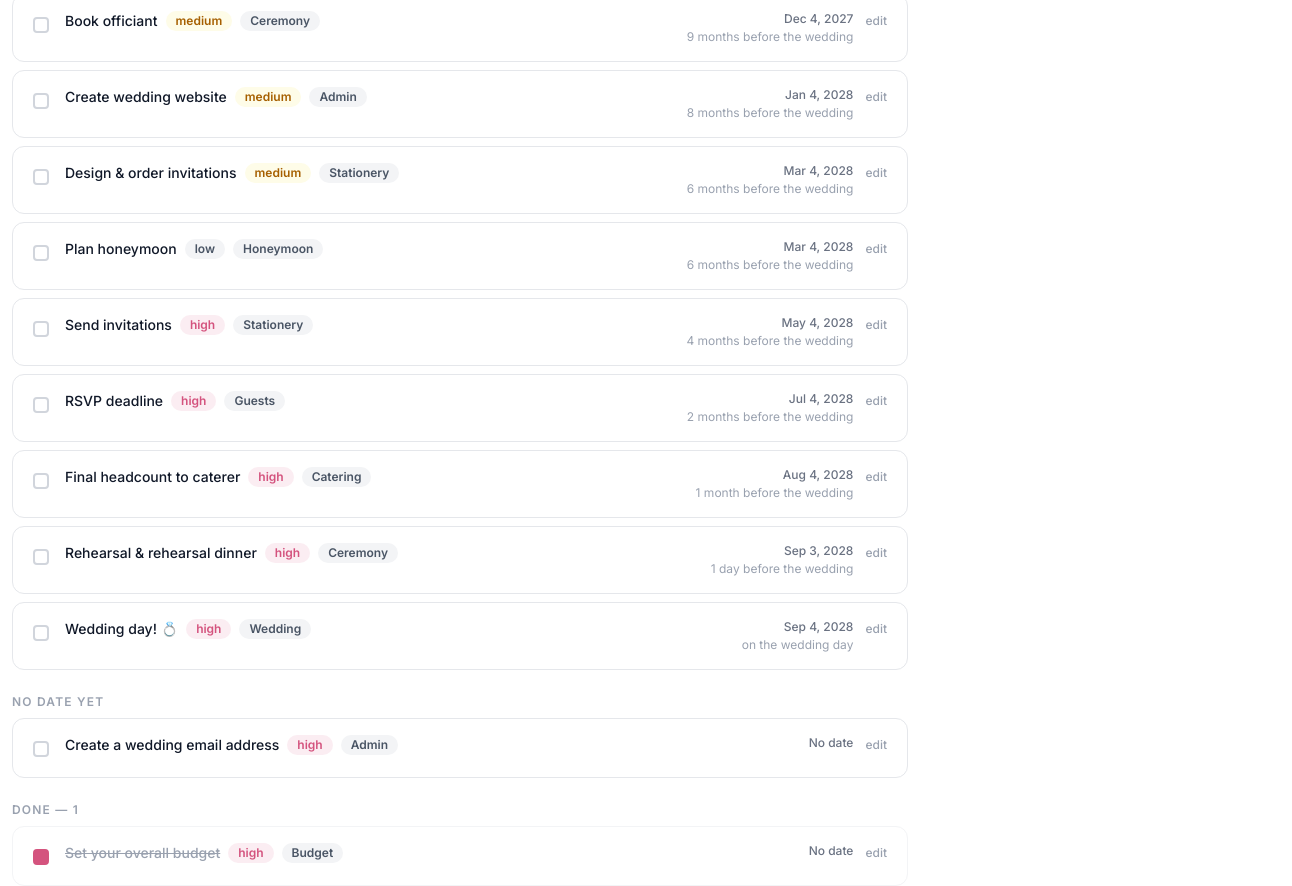
Test: Timeline — removing an item › removes an undated task
(page scrolled)
Click the button "edit" in the row of "Create a wedding email address" at (876, 745), box [865,737,887,753]
(page scrolled)
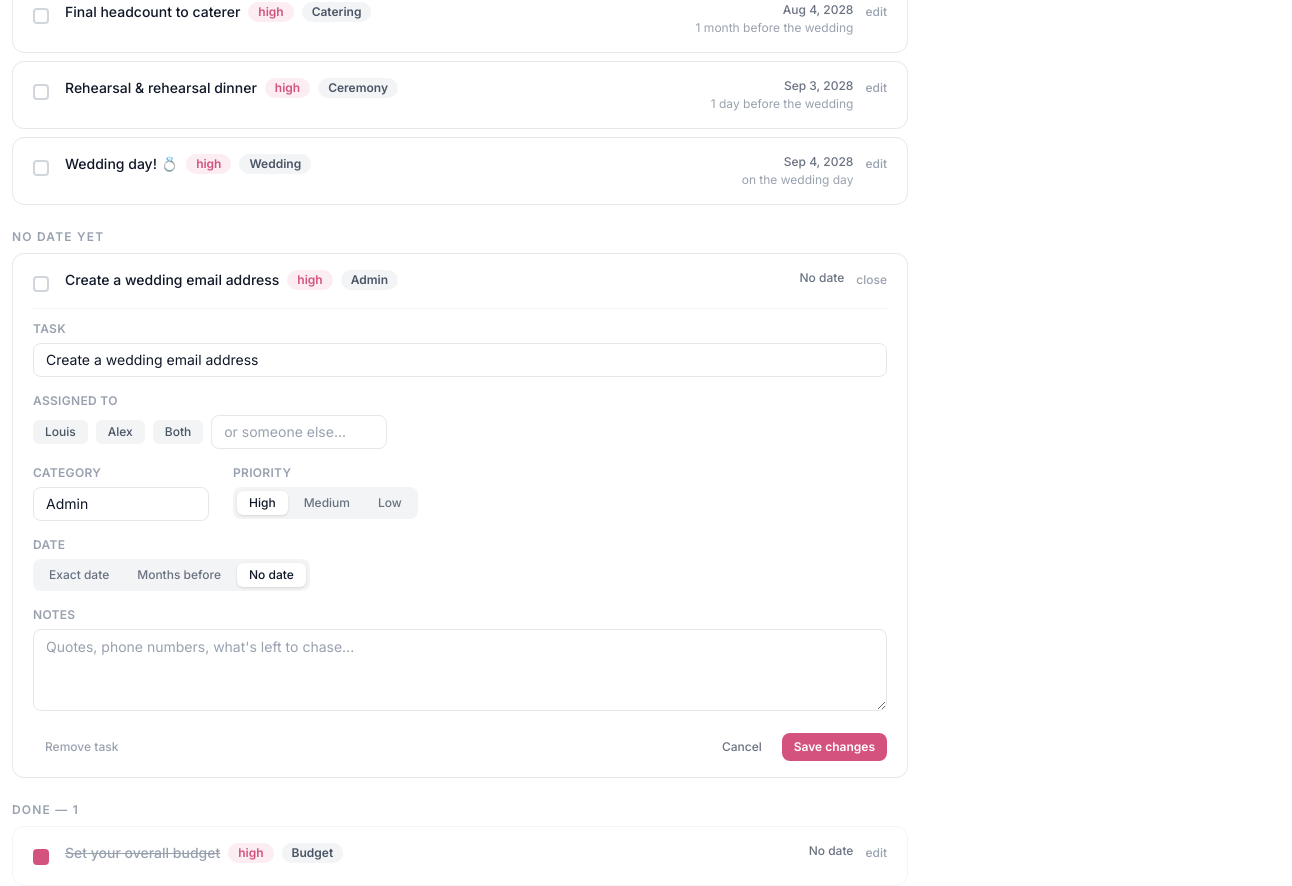
Click the button "Remove task" at (82, 747), box [33,733,130,761]
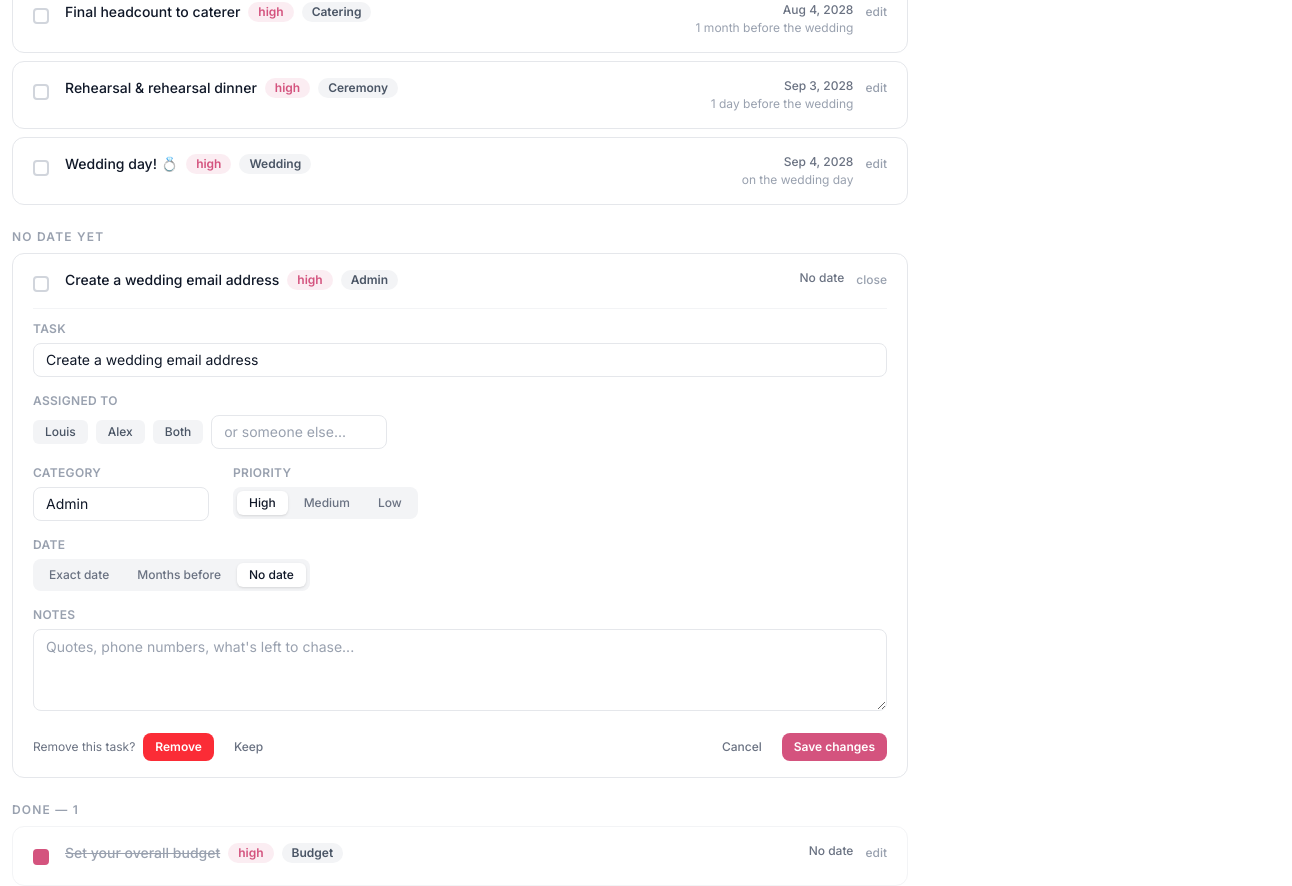
Click the button "Remove" at (179, 747), box [143,733,214,761]
(page scrolled)
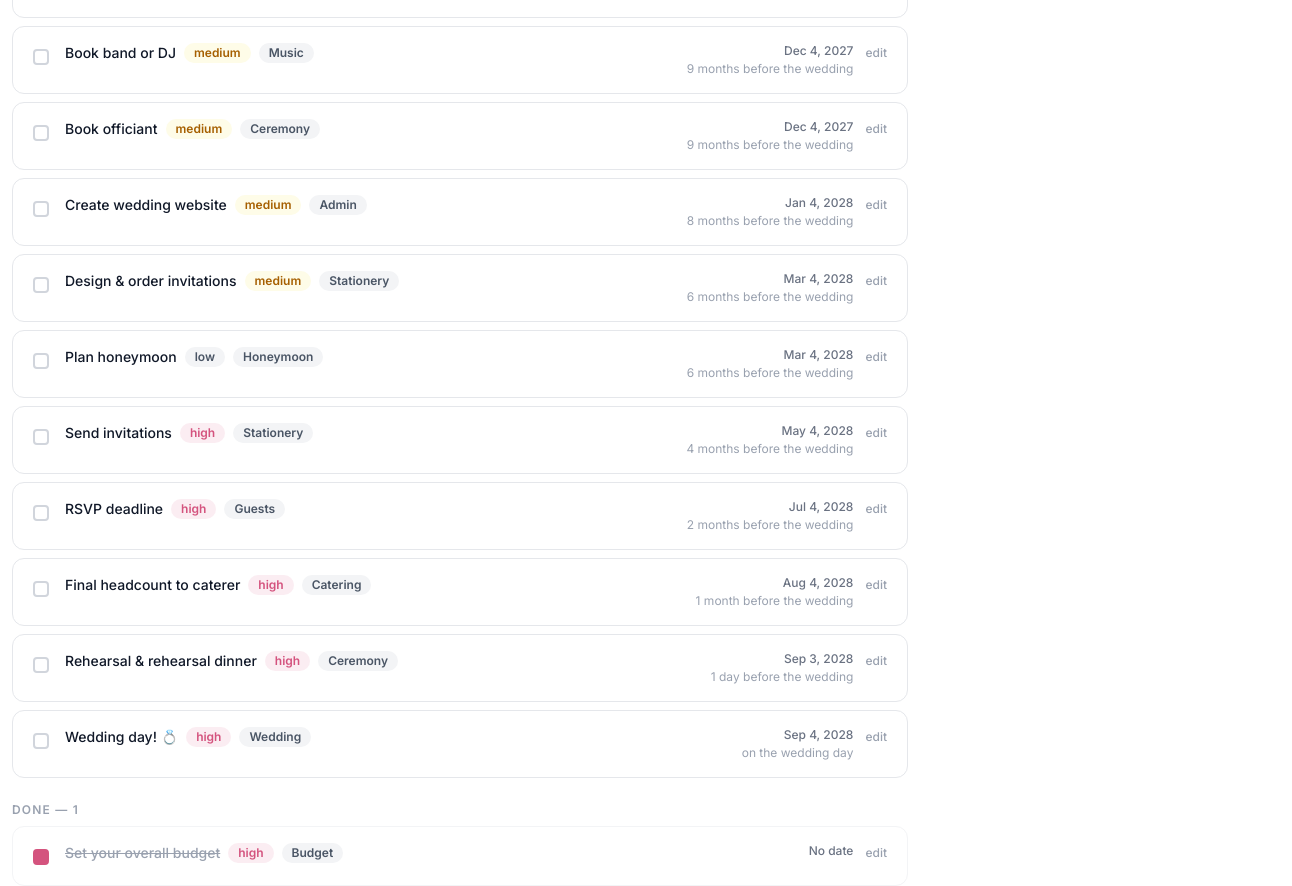
Now the text "Create a wedding email address" is gone
